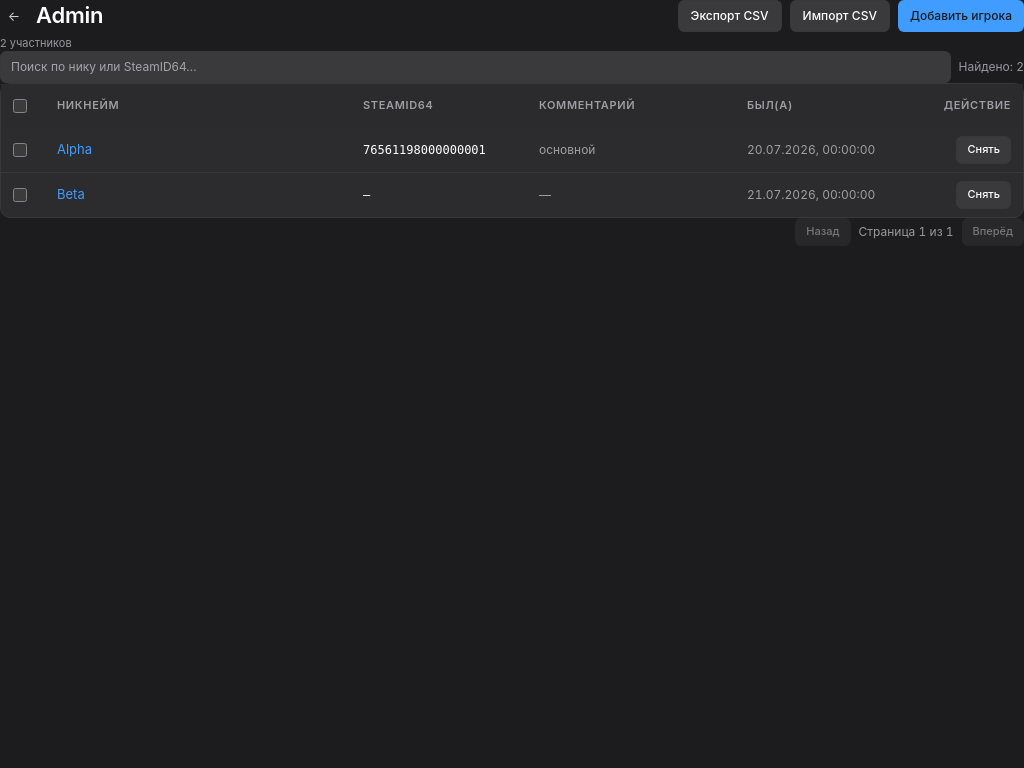
MembersPage — branch coverage › does not bulk-delete when the confirm dialog is dismissed
This screenshot has width=1024, height=768.
Expected: the link "Alpha" is shown, [57,141,92,157]
Step 1. Click the checkbox named "Выбрать Alpha" next to "Alpha" → point(20, 150), box [13,143,27,157]
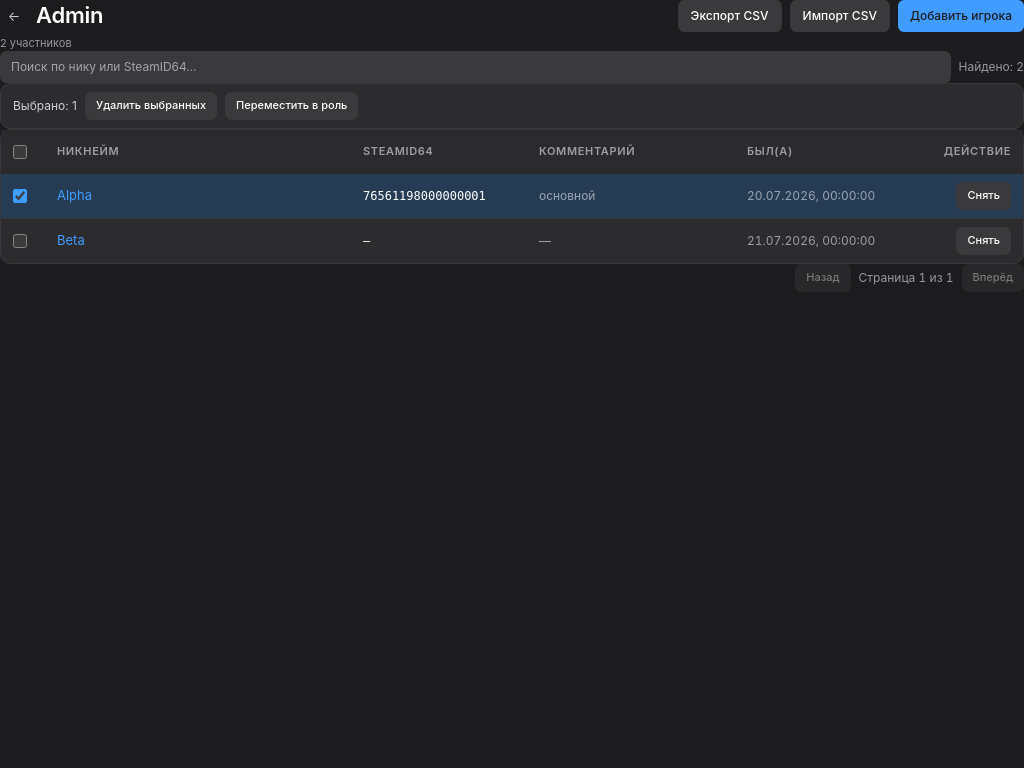
Step 2. Click the button "Удалить выбранных" → point(151, 106), box [85,92,217,120]
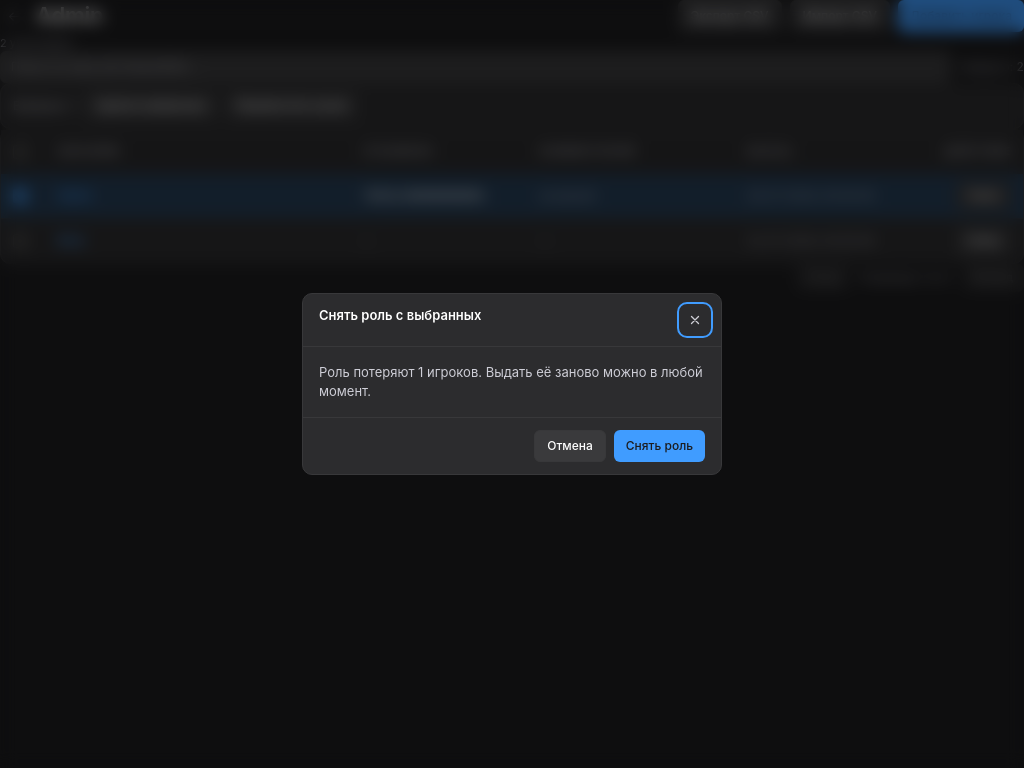
Step 3. Click the button named "Отмена" → point(695, 320), box [681,306,709,334]
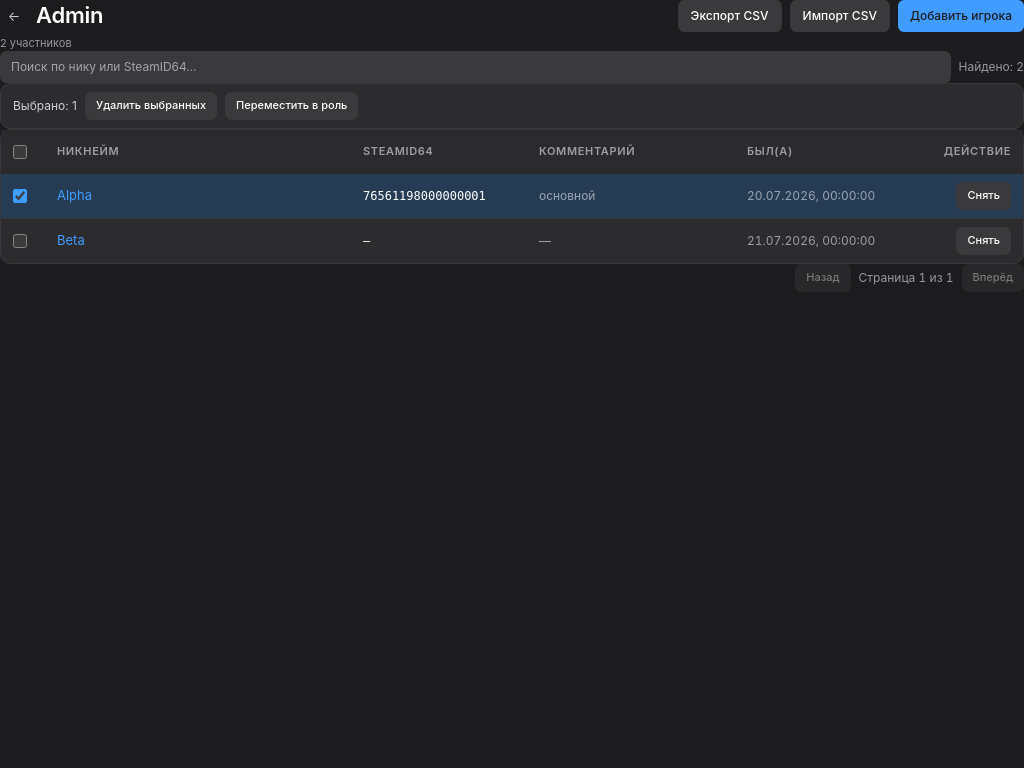
Expected: the dialog is gone
